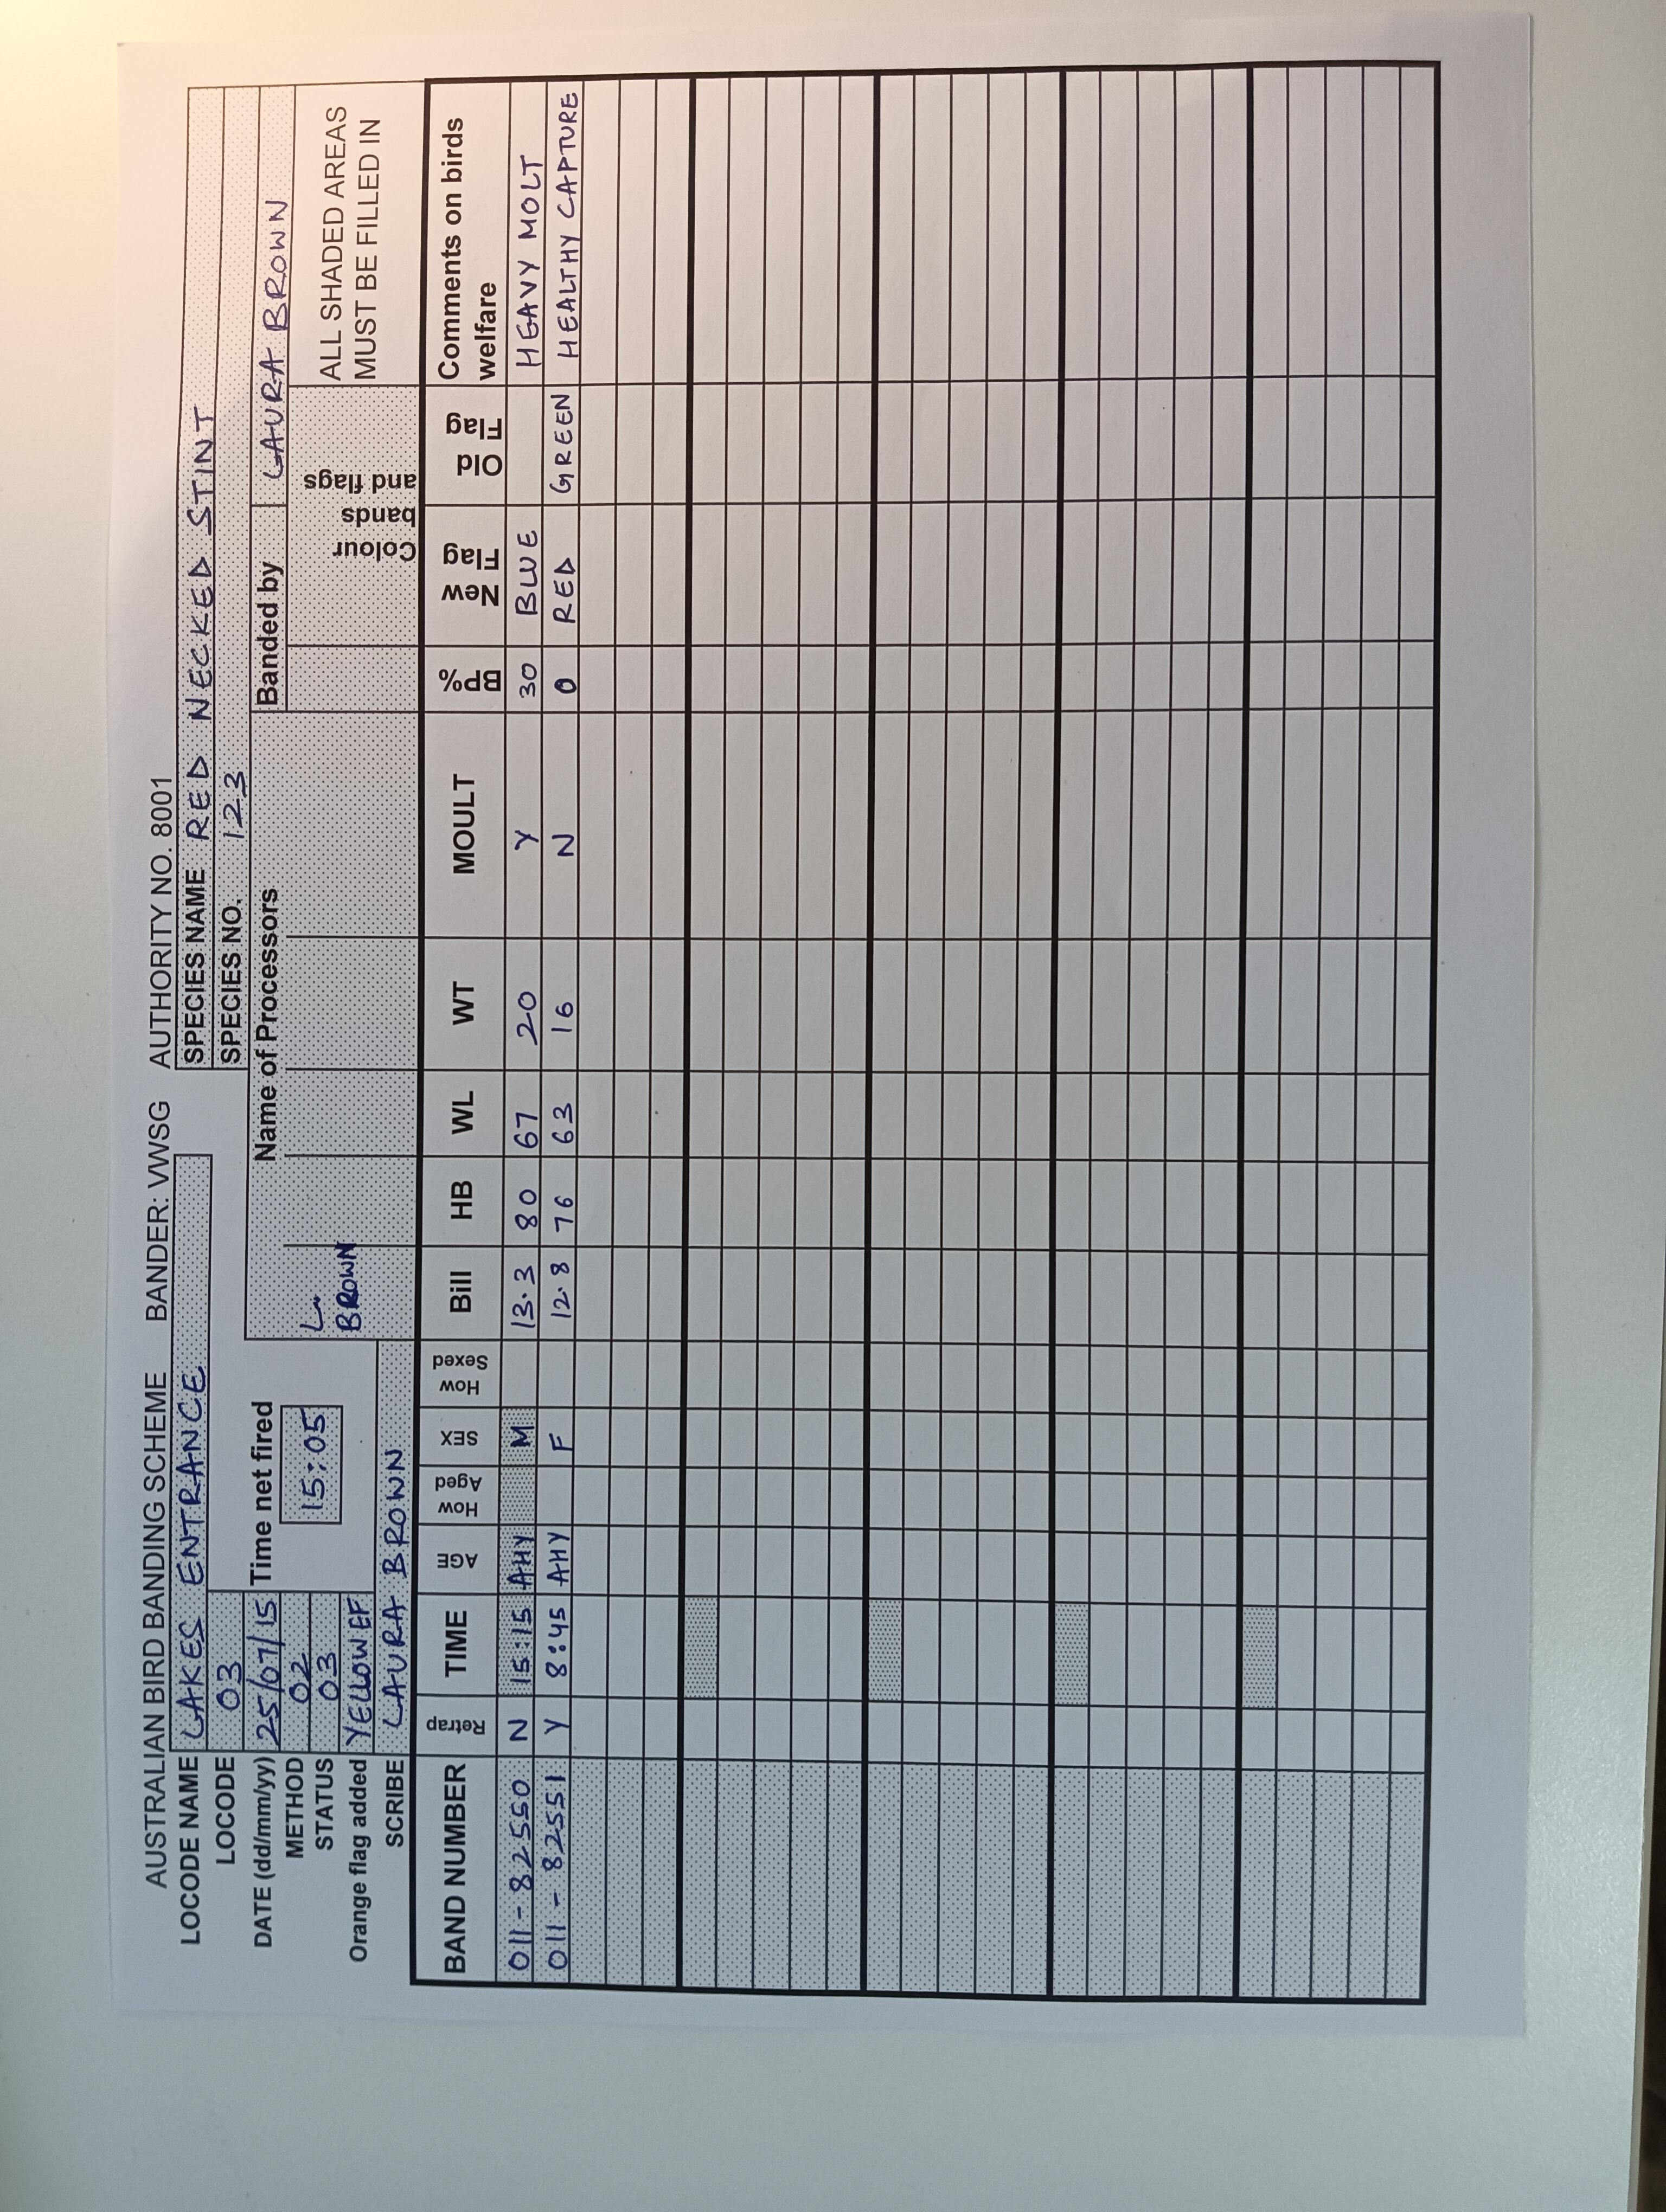LOCOCODE: (210, 1591, 245, 1880)
LOCOCODE_NAME: (172, 1156, 215, 1962)
